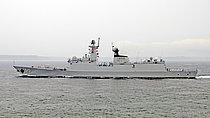MIL_Ship: (12, 36, 200, 80)
